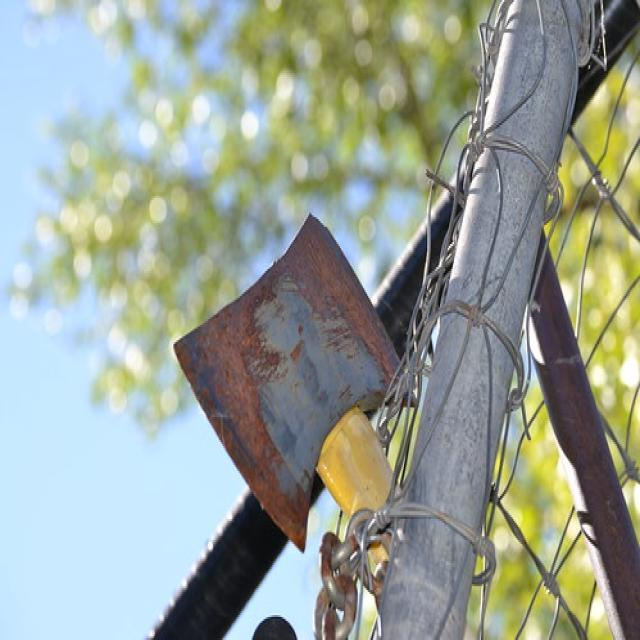Axe: (175, 216, 398, 549)
